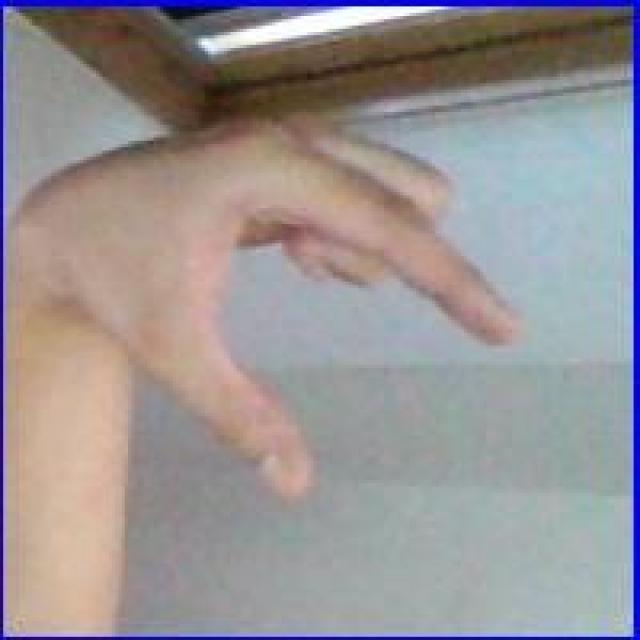Q: (94, 101, 530, 507)
